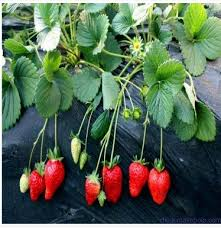Fresa: (43, 156, 66, 203), (125, 158, 150, 199), (147, 166, 172, 206), (100, 163, 123, 204), (83, 175, 101, 207), (28, 167, 44, 202)
